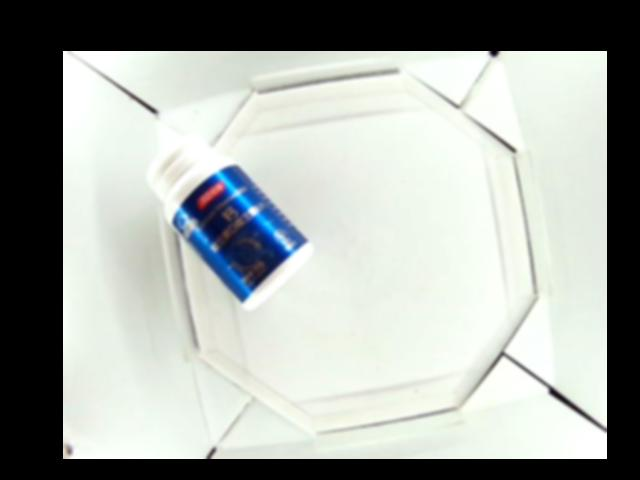Bottle: (146, 136, 312, 310)
